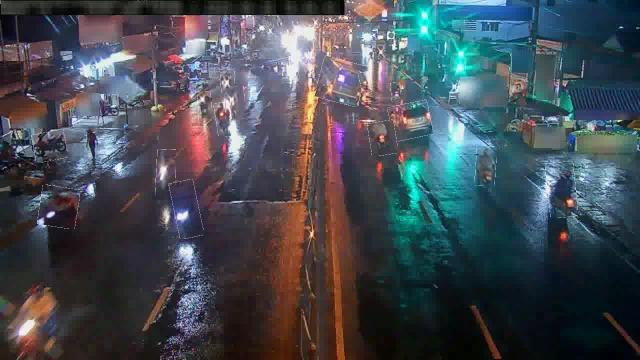Bike: (171, 180, 201, 240), (546, 162, 578, 218), (39, 186, 80, 228), (33, 130, 67, 162), (369, 121, 397, 156), (156, 150, 176, 197), (476, 146, 496, 186), (225, 86, 245, 120), (214, 102, 230, 138), (198, 92, 212, 122), (220, 70, 236, 94), (360, 72, 372, 92), (391, 83, 401, 103)
Bus: (316, 58, 366, 106)
Car: (388, 102, 432, 141)
